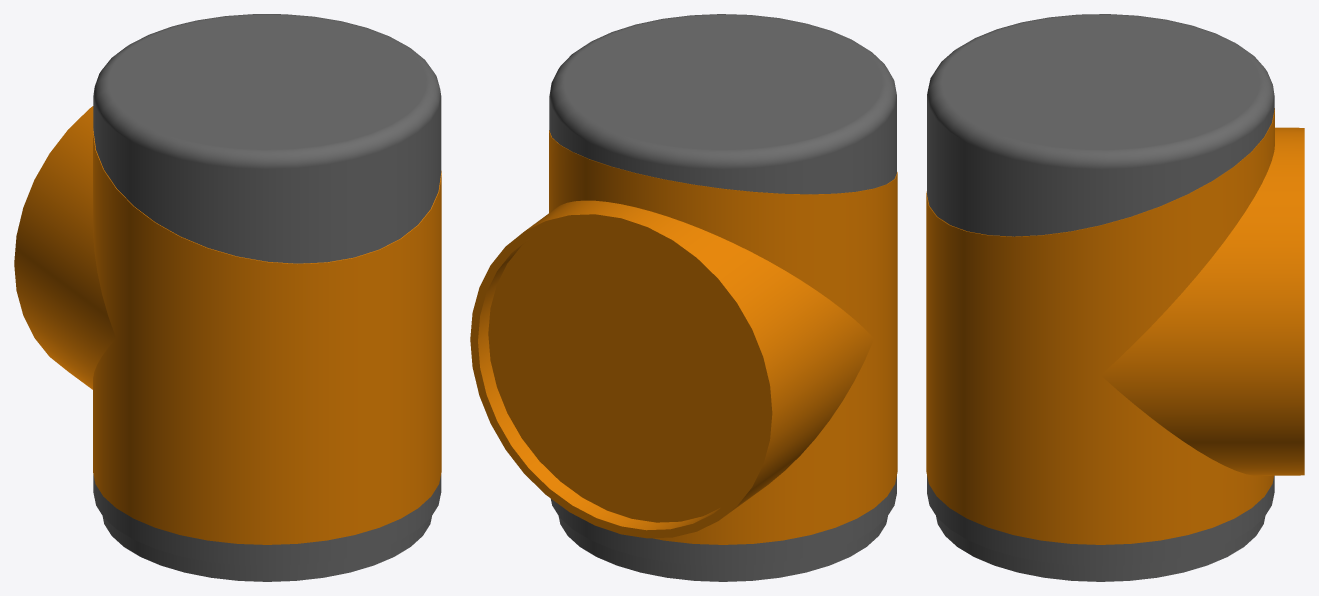
3 renders of one model, left to right at view 1: azimuth 30°, elevation 25°; view 2: azimuth 150°, elevation 25°; view 3: azimuth 270°, elevation 25°, orthographic.
Visible parts, largest first — view 1: NONE; view 2: NONE; view 3: NONE.
Boxes of the visible parts, <box> form: NONE: <box>14,14,441,581</box>; NONE: <box>470,14,897,581</box>; NONE: <box>926,14,1304,581</box>.
Bounding box in the file's own units: 0.118 × 0.128 × 0.1603.
